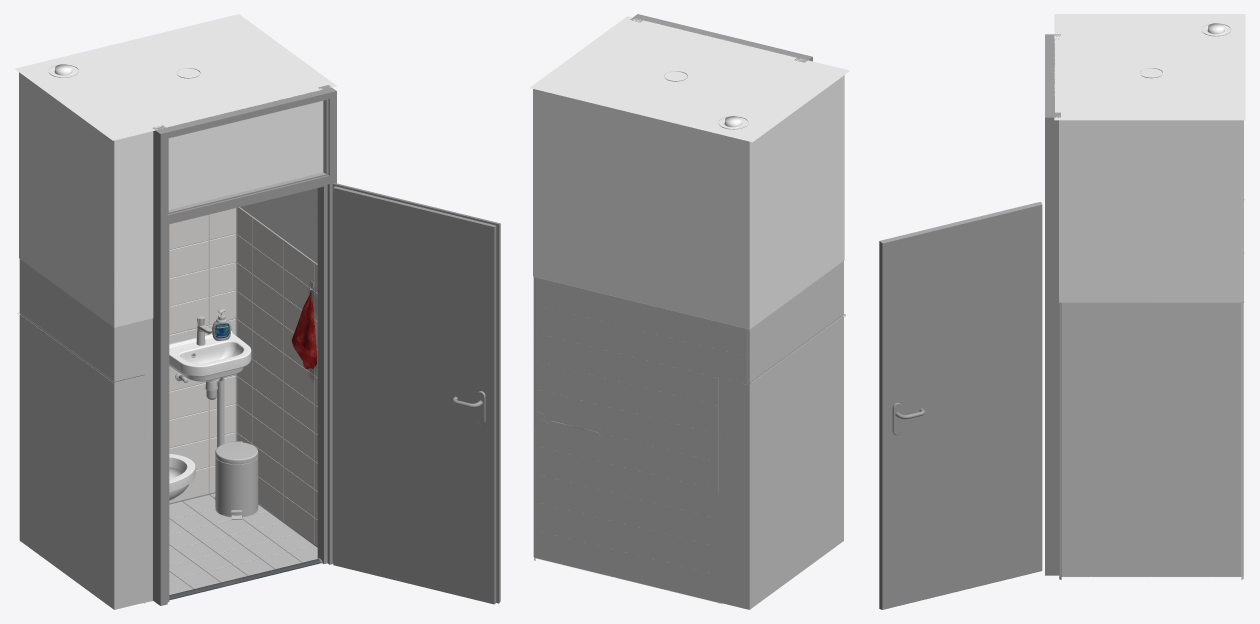
The model's file is toiletroom_sketchfab1.fbx.
3 renders of one model, left to right at view 1: azimuth 30°, elevation 25°; view 2: azimuth 150°, elevation 25°; view 3: azimuth 270°, elevation 25°, orthographic. The views are drawn at different scales.
Parts seen in each view (by area): view 1: toilet_walls, pasted__pCube8, roof, wall_tiles3, pasted__door_frame, wall_tiles4, pasted__window_glass2, toilet_floortiles, sink, bin, gelstrip8, polySurface3 (+4 smaller); view 2: toilet_walls, roof, pasted__door_frame; view 3: toilet_walls, pasted__pCube8, roof, pasted__door_frame, gelstrip8.
Boxes of the visible parts, x1,y1,x2,y2 form: toilet_walls: (19, 72, 317, 609); pasted__pCube8: (332, 183, 500, 604); roof: (15, 14, 336, 140); wall_tiles3: (237, 207, 317, 545); pasted__door_frame: (152, 85, 336, 605); wall_tiles4: (169, 208, 235, 503); pasted__window_glass2: (168, 101, 323, 209); toilet_floortiles: (169, 493, 317, 594); sink: (169, 329, 251, 381); bin: (215, 456, 258, 517); gelstrip8: (17, 208, 237, 603); polySurface3: (291, 291, 316, 368); toilet_walls: (533, 75, 844, 609); roof: (530, 16, 849, 142); pasted__door_frame: (630, 14, 812, 62); toilet_walls: (1059, 120, 1243, 576); pasted__pCube8: (879, 201, 1042, 609); roof: (1054, 14, 1245, 120); pasted__door_frame: (1045, 34, 1060, 575); gelstrip8: (1059, 199, 1244, 579).
Bounding box in the file's own units: 1.67 × 2.54 × 1.81.
